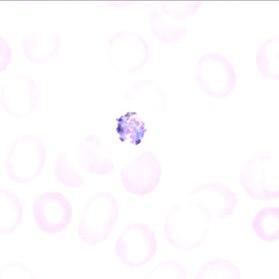Infected: (115, 110, 149, 147)
Uninfected: (115, 222, 157, 267), (239, 155, 279, 202), (194, 52, 236, 96), (32, 193, 74, 234), (122, 151, 160, 195), (77, 134, 116, 175), (148, 4, 188, 43), (253, 206, 279, 242)
